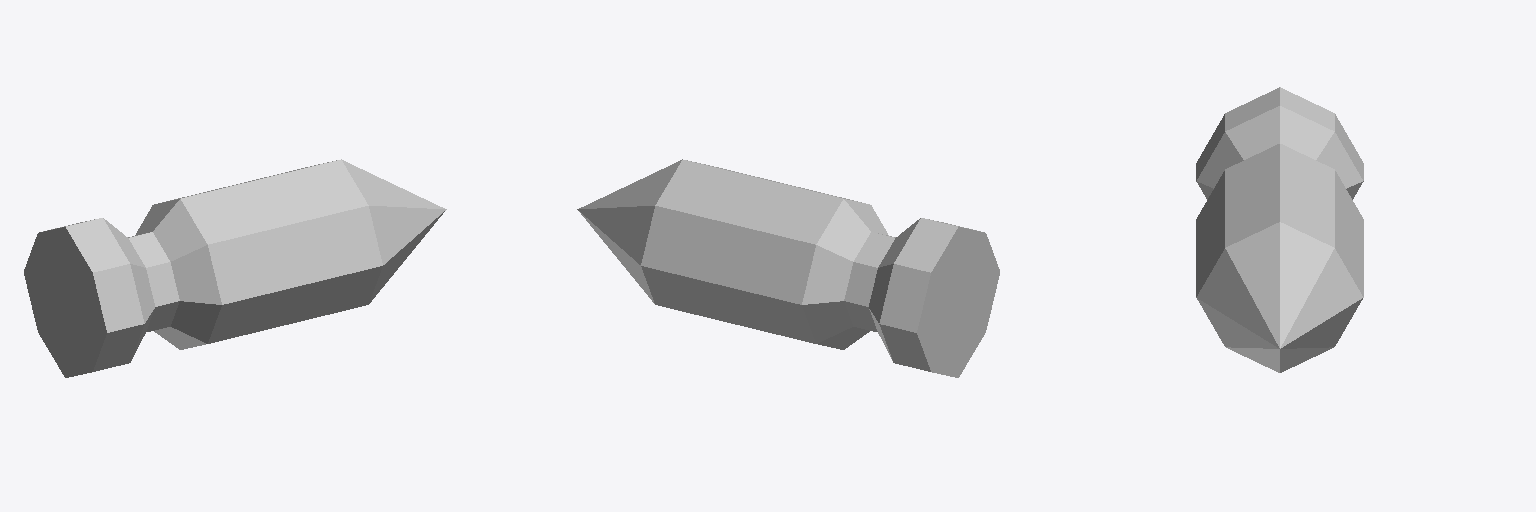
The model's file is rocket.obj.
The picture shows the model from 3 angles: view 1: azimuth 30°, elevation 25°; view 2: azimuth 150°, elevation 25°; view 3: azimuth 270°, elevation 25°; orthographic projection.
Parts seen in each view (by area): view 1: Cube; view 2: Cube; view 3: Cube.
Boxes of the visible parts, <box> form: Cube: <box>24,159,446,377</box>; Cube: <box>577,159,999,377</box>; Cube: <box>1196,87,1363,372</box>.
Size of the model in its own units: 4.74 by 1.8 by 1.8.